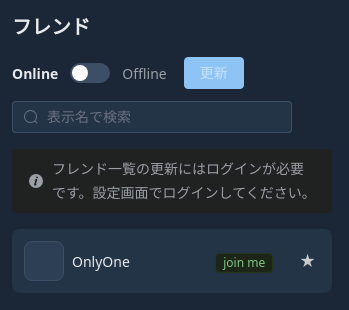
it: FriendsView › shows message when search matches no one
Type "nope" into the search field with test id "friends-search-display-name" at (164, 117), box [47,102,281,132]
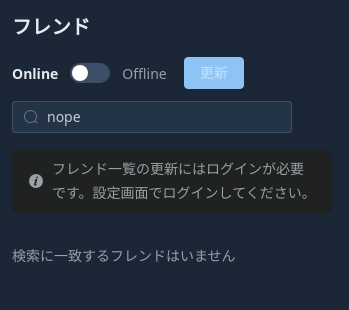
Expected: the text "検索に一致するフレンドはいません" is shown, [12,246,236,265]
